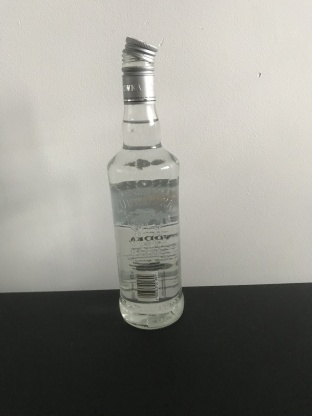nakretka: (119, 35, 159, 106)
